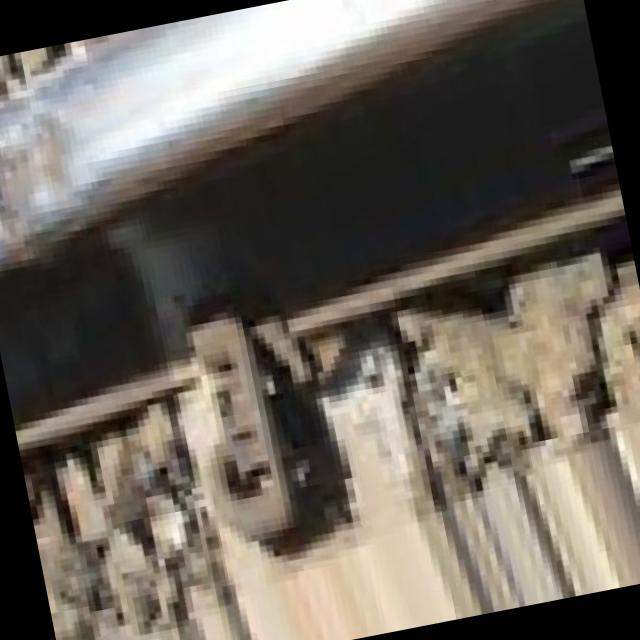defective: (0, 18, 251, 343)
